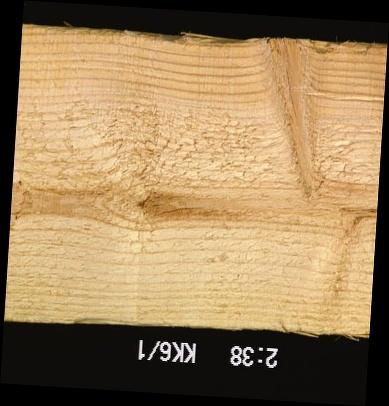wave: (105, 32, 386, 61)
